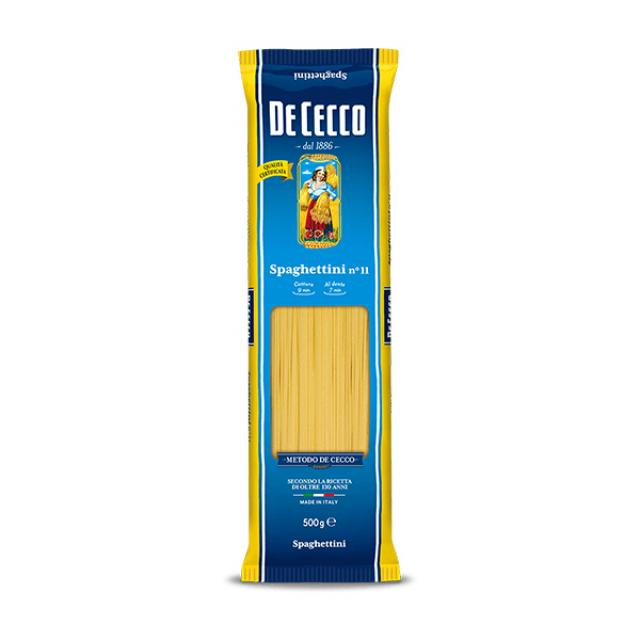noodle: (272, 306, 370, 459)
